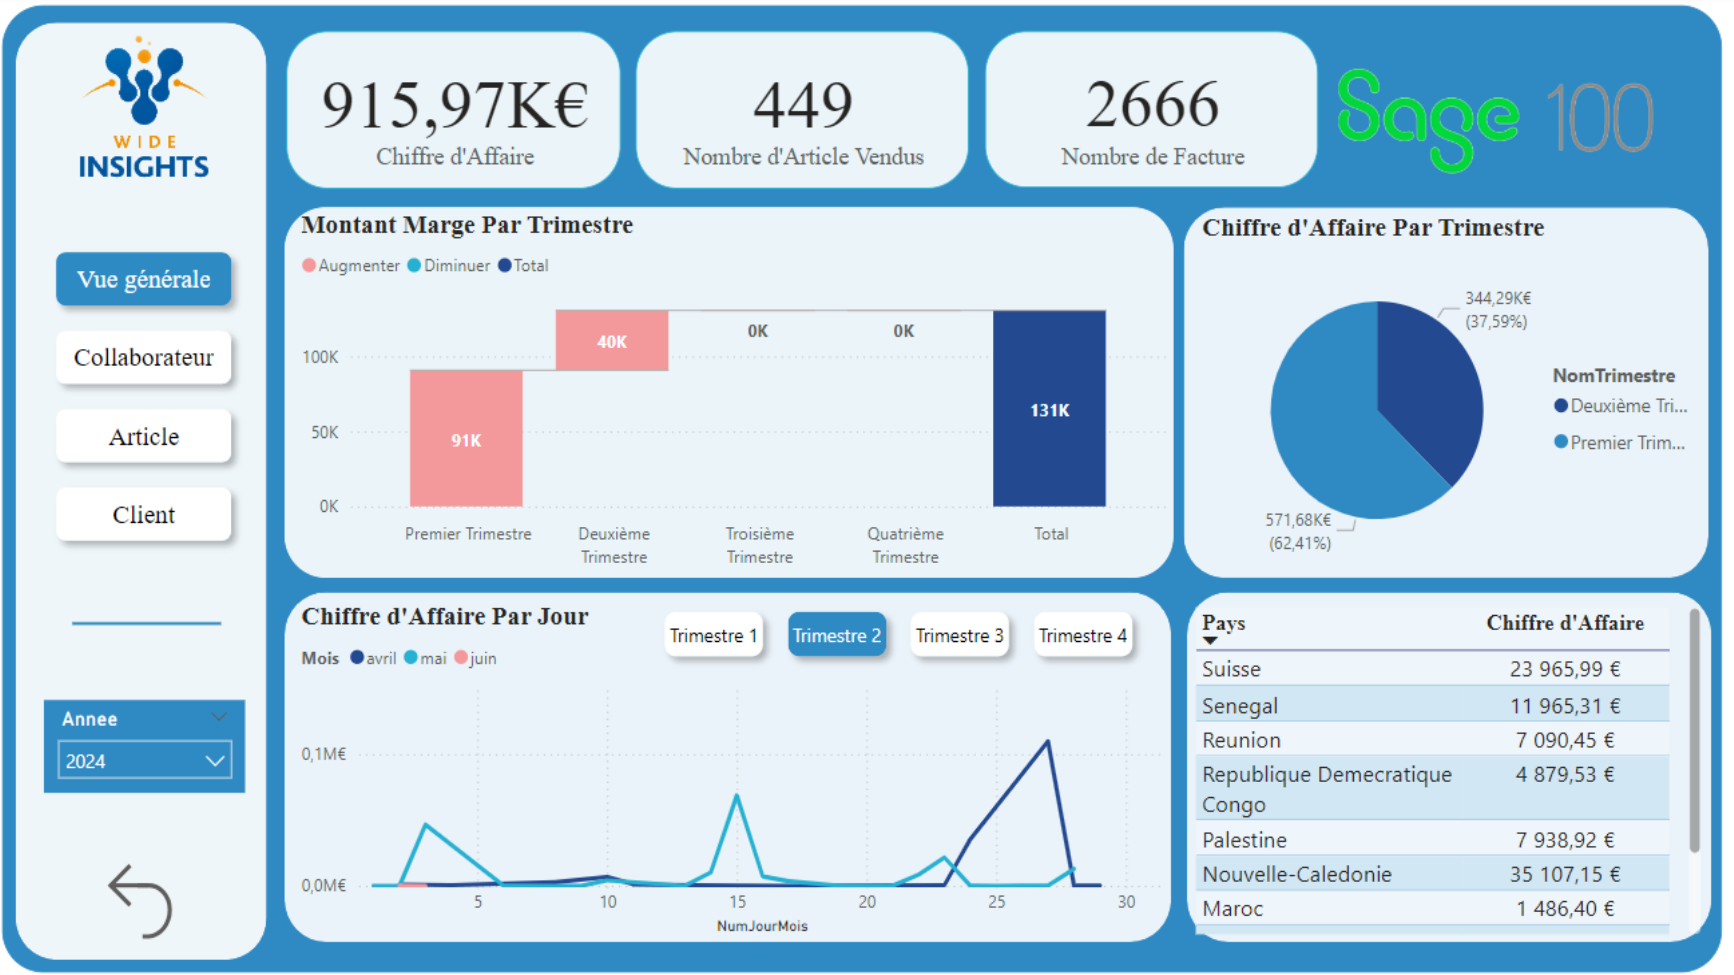

This screenshot's page, from the dashboard's own definition file:
{"tool":"powerbi","page":{"name":"Vue générale","canvas":[1280,720],"ordinal":0},"visuals":[{"type":"textbox","box":[8.8,8.8,1258.8,691.2],"z":0},{"type":"shape","box":[215,153.3,650,265],"z":1000},{"type":"card","fields":{"Values":["Sum(Fact_Vente.MontantHT)"]},"box":[216.3,27,244.9,112.5],"z":2000},{"type":"card","fields":{"Values":["CountNonNull(Fact_Vente.NoFacture)"]},"box":[727.3,27,244,112],"z":3000},{"type":"card","fields":{"Values":["Count(Fact_Vente.IdArticle)"]},"box":[472.3,27,244,112.5],"z":4000},{"type":"shape","box":[873,153,384,265],"z":5000},{"type":"shape","box":[215,427.5,648.8,250],"z":6000},{"type":"shape","box":[875,427.5,383.8,250],"z":8000},{"type":"tableEx","fields":{"Values":["Dim_LieuLivraison.PaysClient","Sum(Fact_Vente.MontantHT)"]},"box":[875,433.8,381.2,243.8],"z":9000},{"type":"image","box":[930.7,6.6,349.5,170.8],"z":10000},{"type":"waterfallChart","title":"Montant Marge Par Trimestre","fields":{"Y":["Sum(Fact_Vente.MontantMarge)"],"Category":["Dim_Date.NomTrimestre"]},"box":[222.2,154.7,644.4,263.8],"z":11000},{"type":"lineChart","title":"Chiffre d''Affaire Par Jour","fields":{"Category":["Dim_Date.NumJourMois"],"Y":["Sum(Fact_Vente.MontantHT)"],"Series":["Dim_Date.Date.Variation.Hiérarchie de dates.Mois"]},"box":[222.5,433.8,642.5,243.8],"z":12000},{"type":"bookmarkNavigator","box":[484,433.2,363.9,50],"z":15000},{"type":"pieChart","title":"Chiffre d''Affaire Par Trimestre","fields":{"Y":["Sum(Fact_Vente.MontantHT)"],"Category":["Dim_Date.NomTrimestre"]},"box":[882,156,376.2,262.5],"z":16000},{"type":"shape","box":[18.8,20.7,183.8,670],"z":17000},{"type":"image","box":[31.8,23.8,161.2,115],"z":18000},{"type":"actionButton","box":[75.5,615,78.8,67.5],"z":19000},{"type":"pageNavigator","box":[39.3,176.6,146.6,224.2],"z":20000},{"type":"shape","box":[59.4,434.7,109,32.6],"z":21000},{"type":"slicer","fields":{"Values":["Dim_Date.Annee"]},"box":[39.3,504.5,147.5,66.2],"z":22000}]}

Visuals, with their boxes in screenshot pixels (x1, y1, x2, y2), scaled from the page's 1280x720 canvas onto the 1734x975 screenshot:
textbox: (12,12,1717,948)
shape: (291,208,1172,566)
card - Sum(Fact_Vente.MontantHT): (293,37,625,189)
card - CountNonNull(Fact_Vente.NoFacture): (985,37,1316,188)
card - Count(Fact_Vente.IdArticle): (640,37,970,189)
shape: (1183,207,1703,566)
shape: (291,579,1170,917)
shape: (1185,579,1705,917)
tableEx - Dim_LieuLivraison.PaysClient x Sum(Fact_Vente.MontantHT): (1185,587,1702,918)
image: (1261,9,1733,240)
"Montant Marge Par Trimestre" waterfallChart: (301,209,1174,567)
"Chiffre d''Affaire Par Jour" lineChart: (301,587,1172,918)
bookmarkNavigator: (656,587,1149,654)
"Chiffre d''Affaire Par Trimestre" pieChart: (1195,211,1704,567)
shape: (25,28,274,935)
image: (43,32,261,188)
actionButton: (102,833,209,924)
pageNavigator: (53,239,252,543)
shape: (80,589,228,633)
slicer - Dim_Date.Annee: (53,683,253,773)
